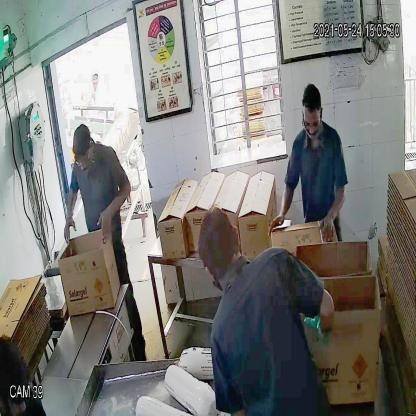goggles: (299, 107, 323, 134), (72, 148, 92, 167)
